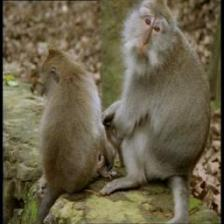monkey: (128, 6, 170, 80), (27, 56, 57, 105)
